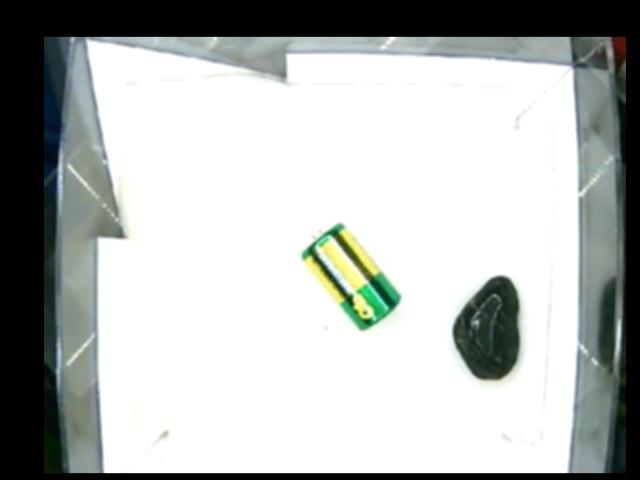Battery: (301, 219, 402, 332)
Pebble: (453, 275, 521, 376)
